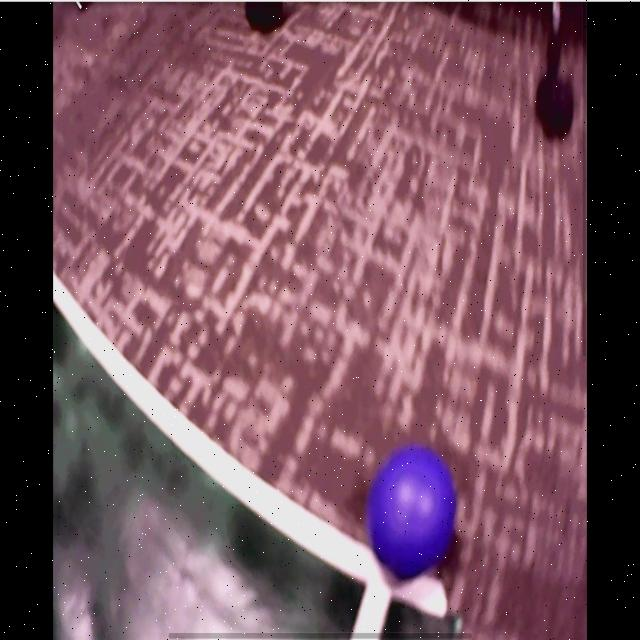ball: (369, 448, 457, 582)
